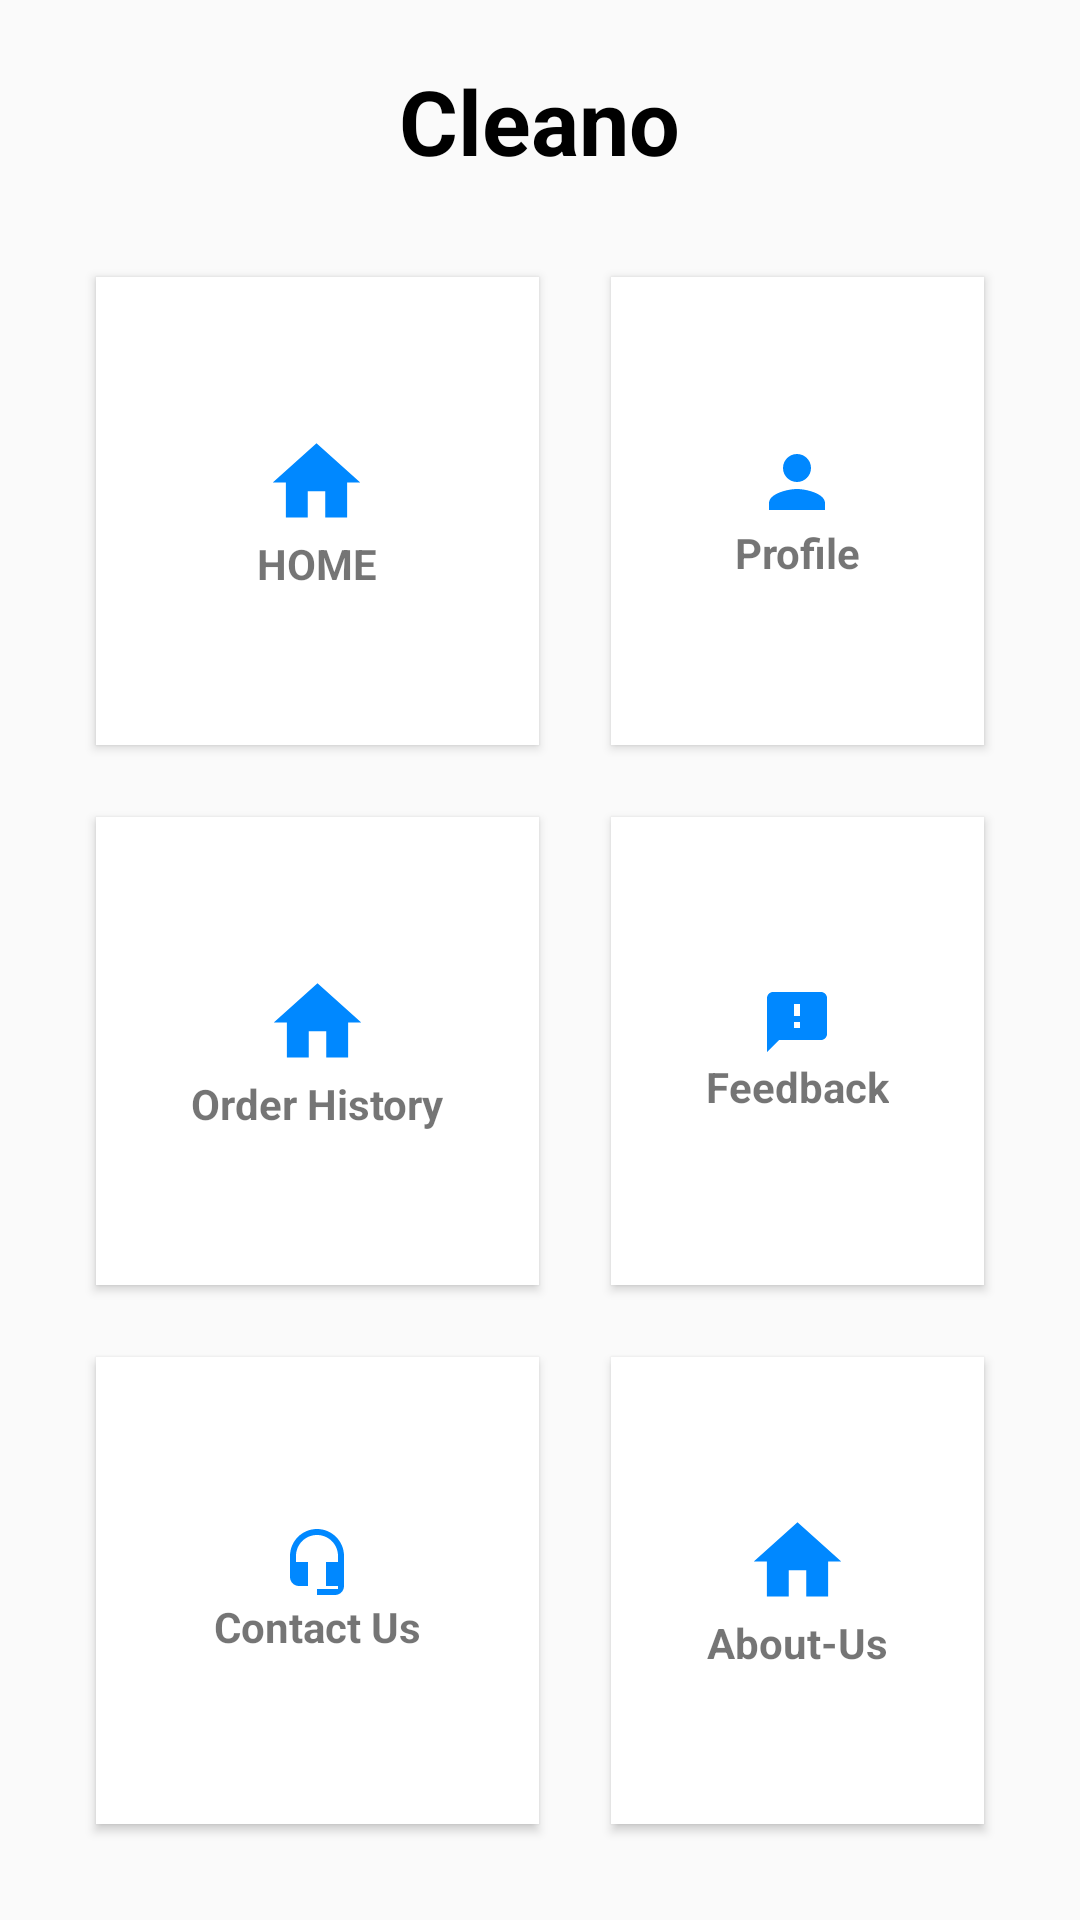

Screen size 1080*1920. Icon name, then its center in pixels as [x,y]:
headmic: [317,1562]
person: [797,482]
